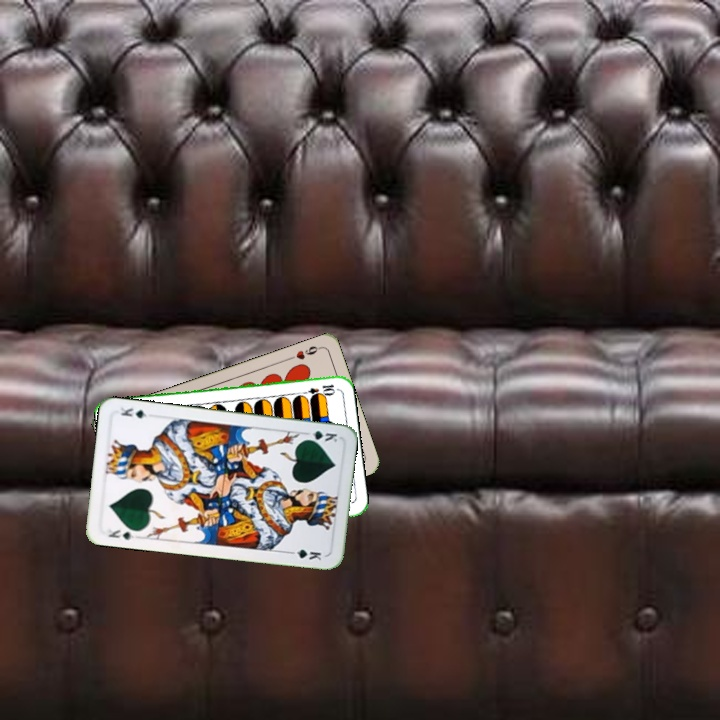E10: (297, 380, 338, 398)
GK: (300, 427, 340, 445), (101, 524, 140, 542)
H9: (284, 342, 323, 362)
